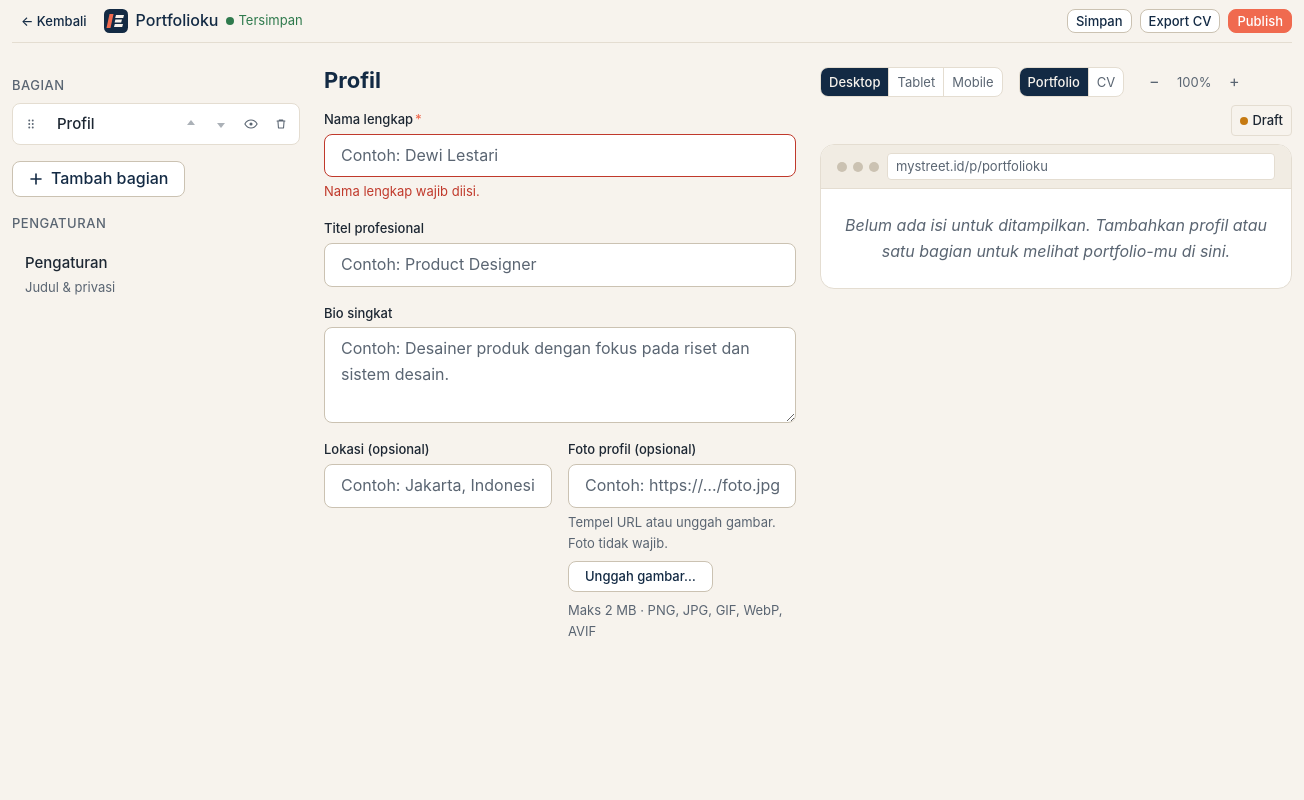
Test: PortfolioEditor › editing a field updates the model and persists it
The image size is (1304, 800).
In the field labelled "Nama lengkap*": (560, 156) [324,134,796,177], type "Dewi Lestari"
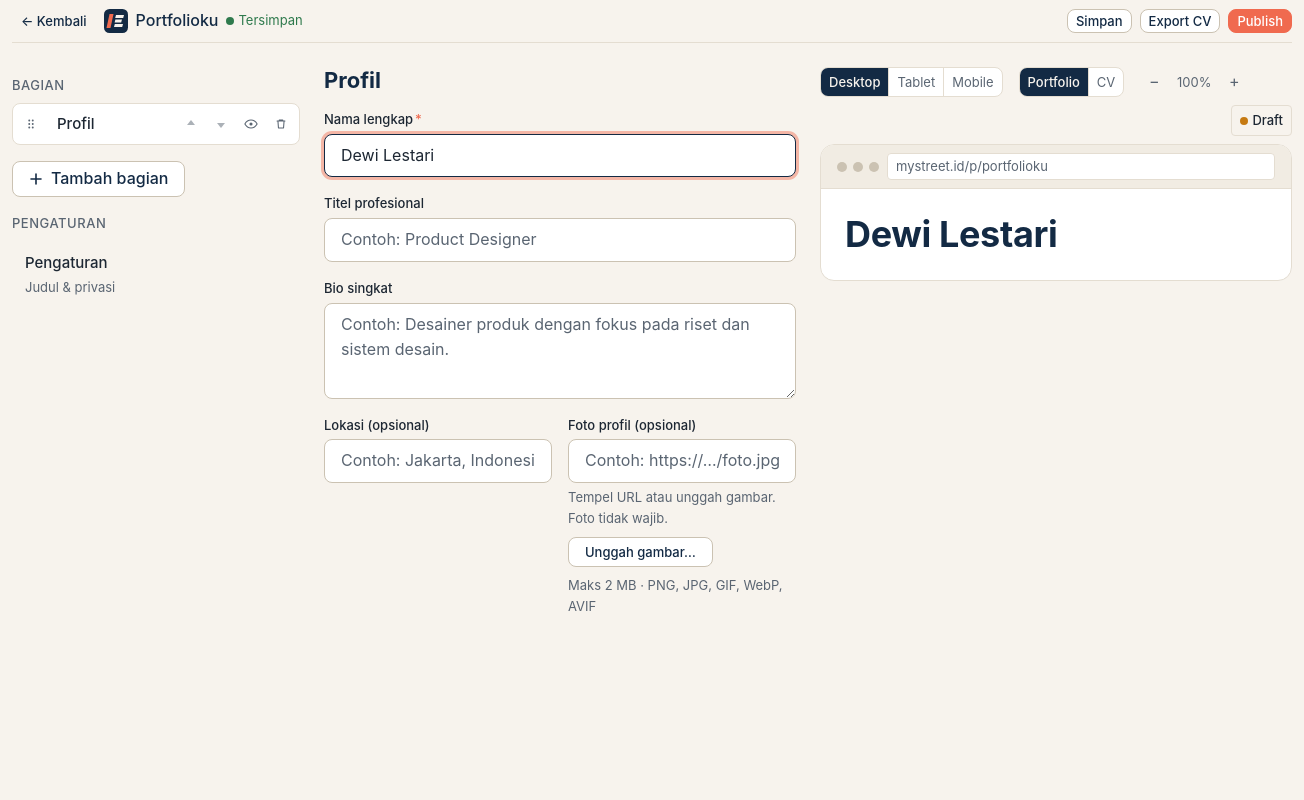
expect the heading "Dewi Lestari" is shown: met, box [845,213,1057,256]
